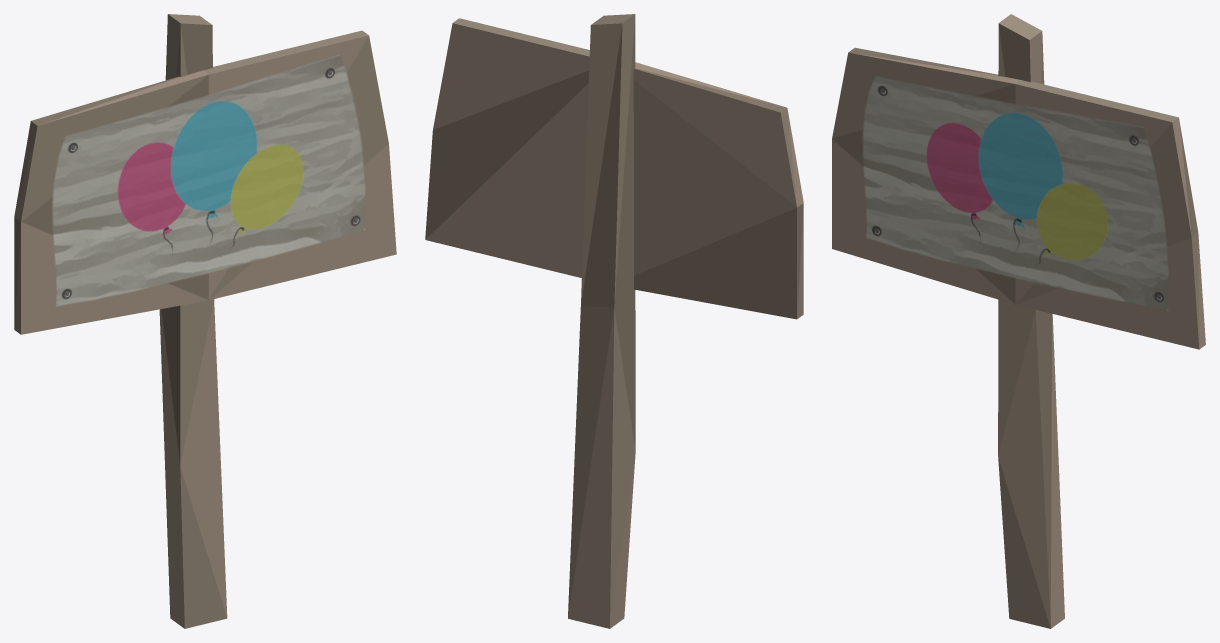
Rendered from cartel_isla_altar.FBX.
The picture shows the model from 3 angles, left to right: view 1: azimuth 30°, elevation 25°; view 2: azimuth 150°, elevation 25°; view 3: azimuth 330°, elevation 25°; orthographic projection. The views are drawn at different scales.
Parts seen in each view (by area): view 1: Poste008; view 2: Poste008; view 3: Poste008.
Boxes of the visible parts, x1,y1,x2,y2 form: Poste008: (14, 14, 396, 628); Poste008: (425, 14, 803, 628); Poste008: (832, 14, 1205, 628).
Size of the model in its own units: 87.02 by 135 by 10.74.
1 material, 1 textured.
